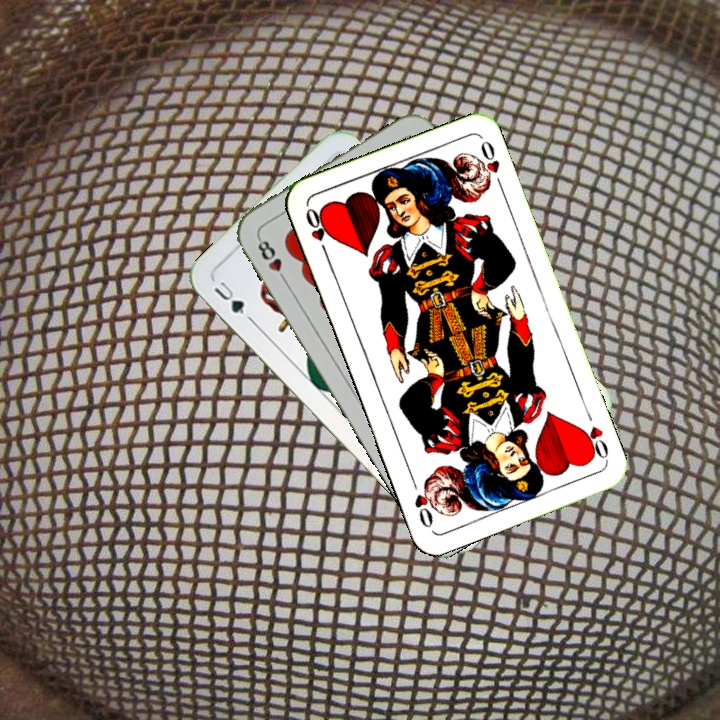GU: (209, 277, 247, 317)
H8: (253, 233, 290, 286)
HO: (301, 203, 333, 260), (577, 422, 611, 463)
